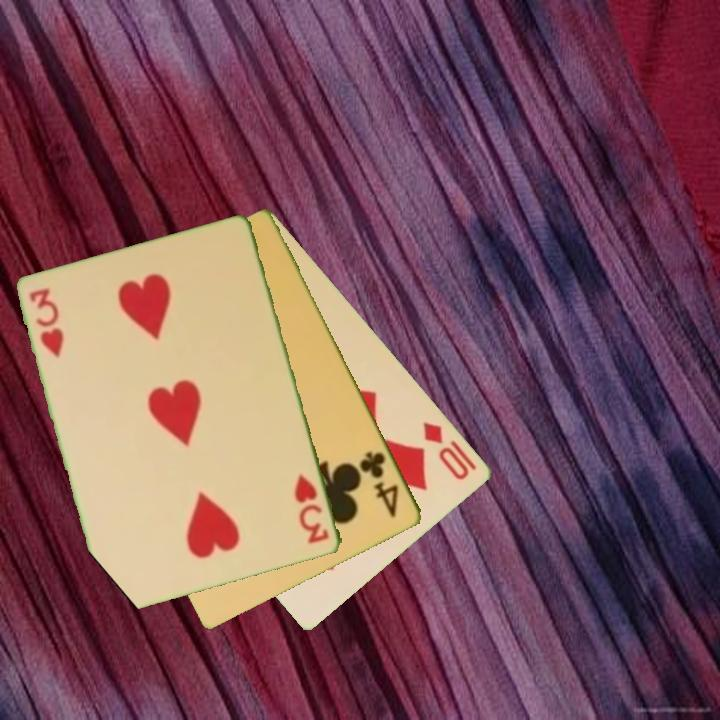10d: (419, 418, 473, 483)
3h: (26, 285, 68, 361), (291, 470, 332, 547)
4c: (356, 447, 403, 521)
